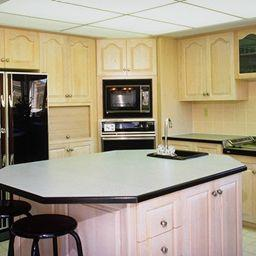Electrodomestico: (2, 70, 49, 159)
Lavaplatos: (147, 113, 211, 164)
